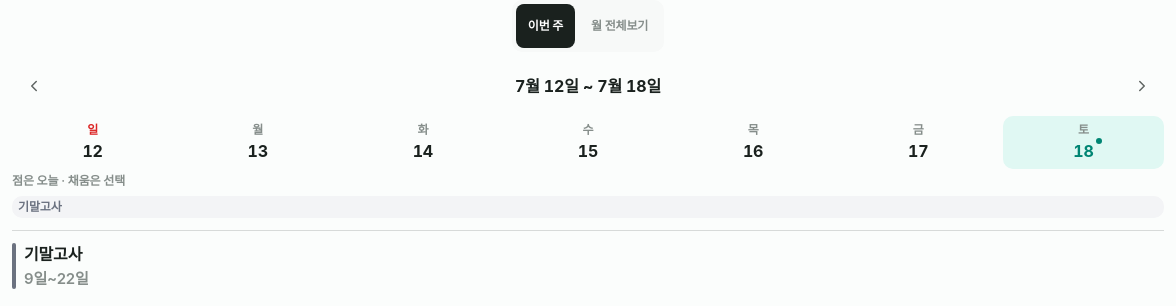
Test: AcademicCalendarGrid — 주/월 탭 › 요일 탭을 눌러 선택일을 바꾸면 하단 상세가 그 날 기준으로 갱신된다
This screenshot has width=1176, height=306.
Click the button named "다음 주" at (1142, 86), box [1120,64,1164,108]
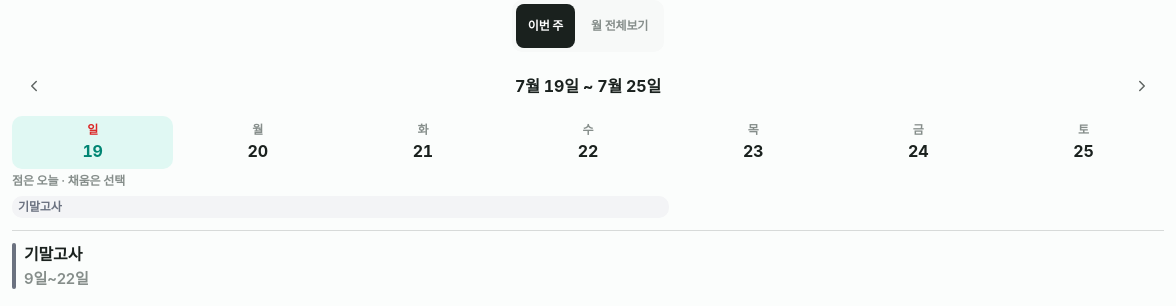
Click the tab with test id "week-day-2026-07-25" at (1083, 142), box [1003,116,1164,169]
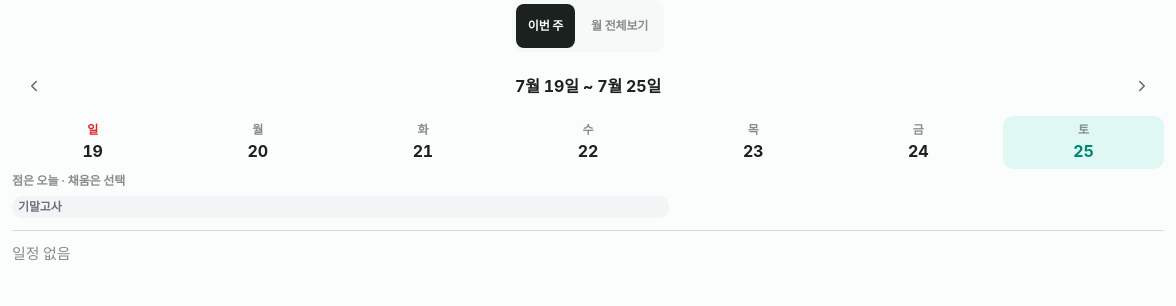
Now the text "일정 없음" is shown, box [12,244,70,263]
Click the tab with test id "week-day-2026-07-20" at (258, 142), box [177,116,338,169]
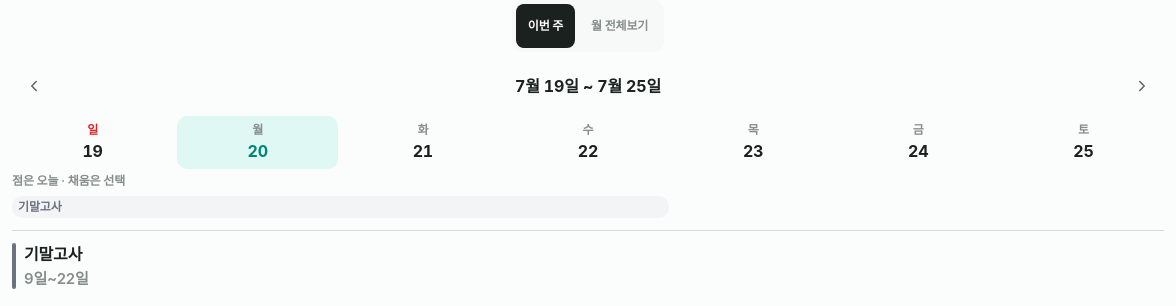
Now the 2nd text "기말고사" is shown, box [24,243,89,266]
